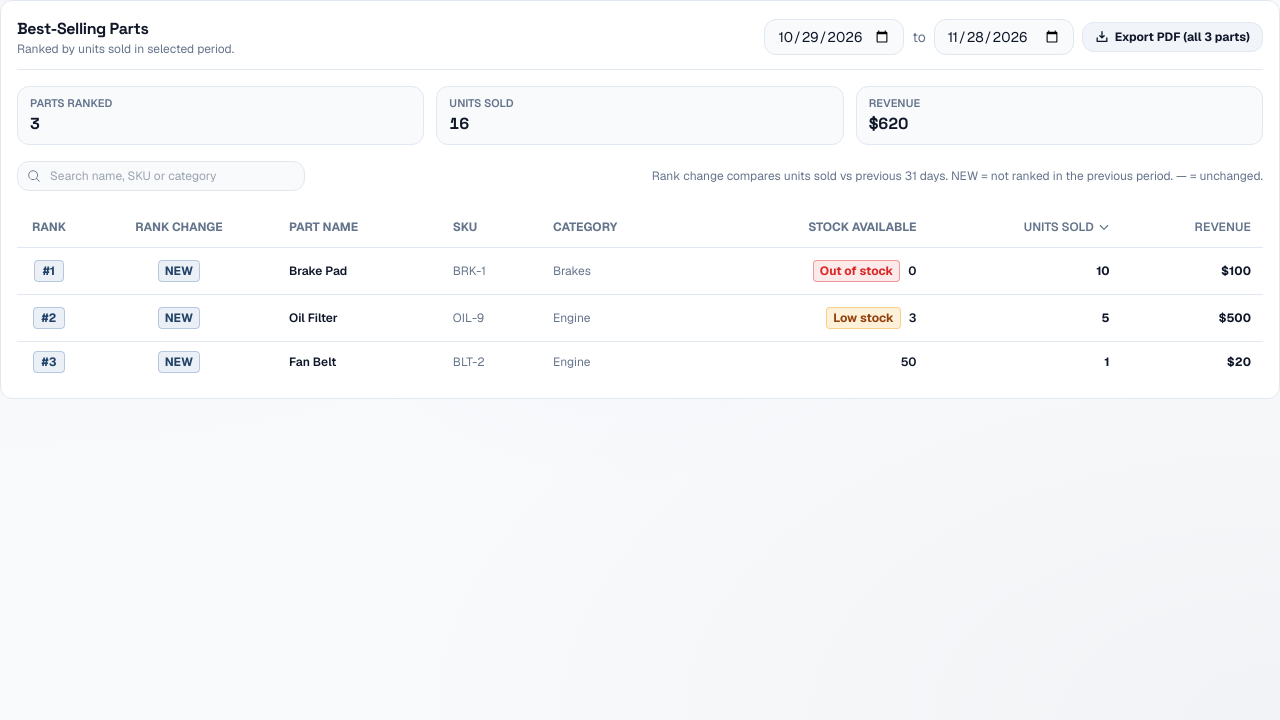
Test: Best-selling parts: search › shows guidance when nothing matches
Type "zzz" into the search field named "Search parts".
click(161, 176); type("zzz")  # box left=17, top=160, right=305, bottom=190
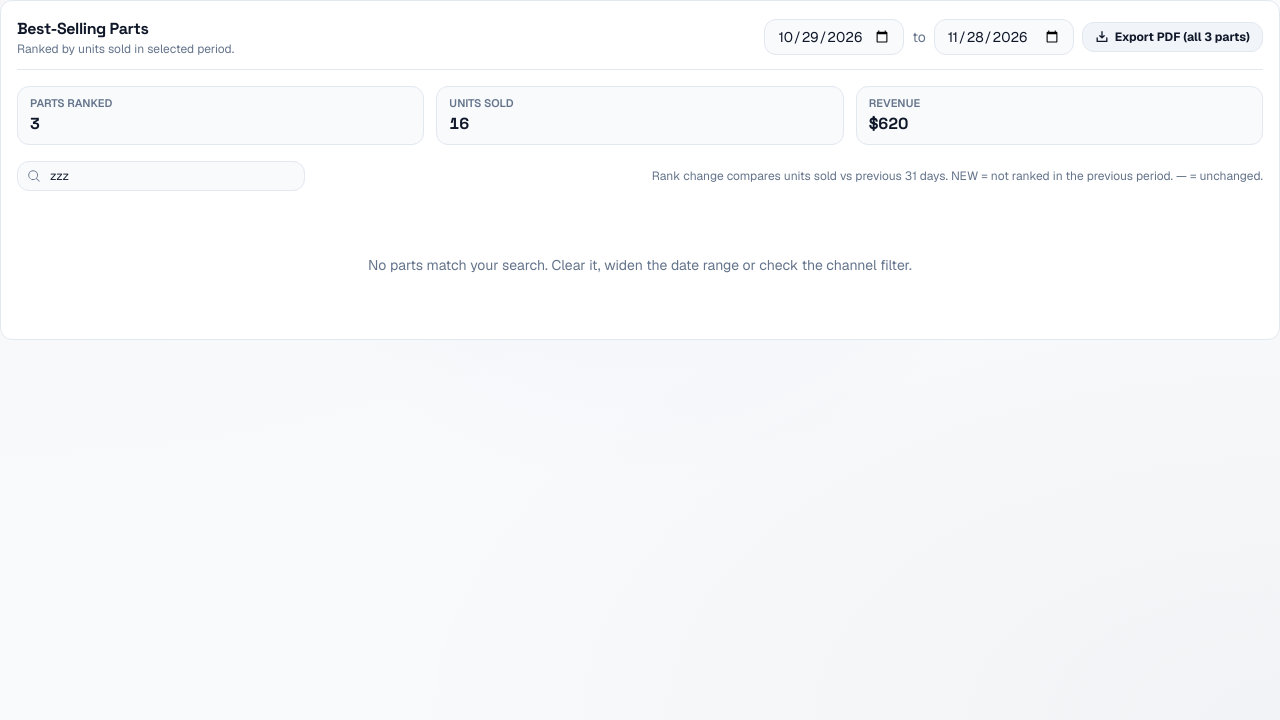
expect the text "widen the date range or check the channel filter" is shown: met, box left=368, top=256, right=912, bottom=274
